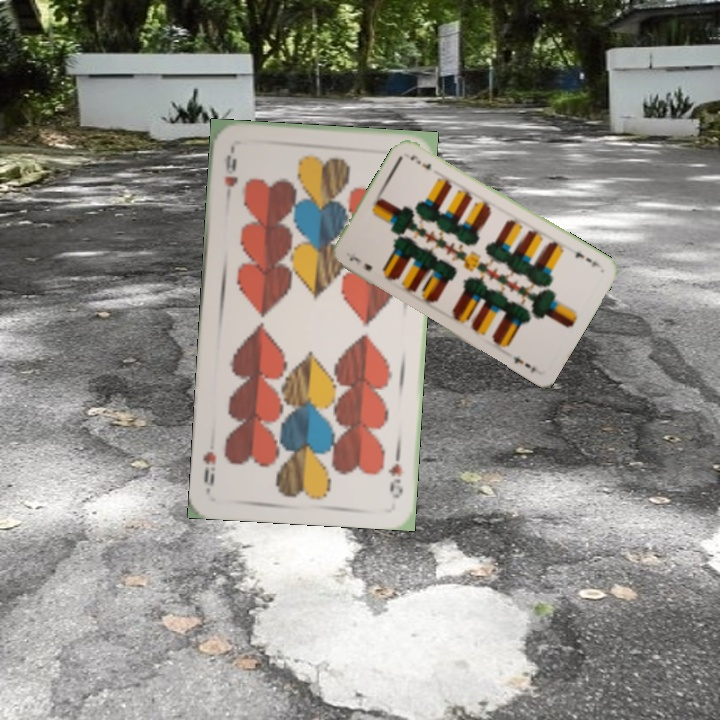E7: (571, 248, 603, 271), (345, 252, 375, 273)
H9: (384, 445, 406, 501), (219, 144, 240, 190)
